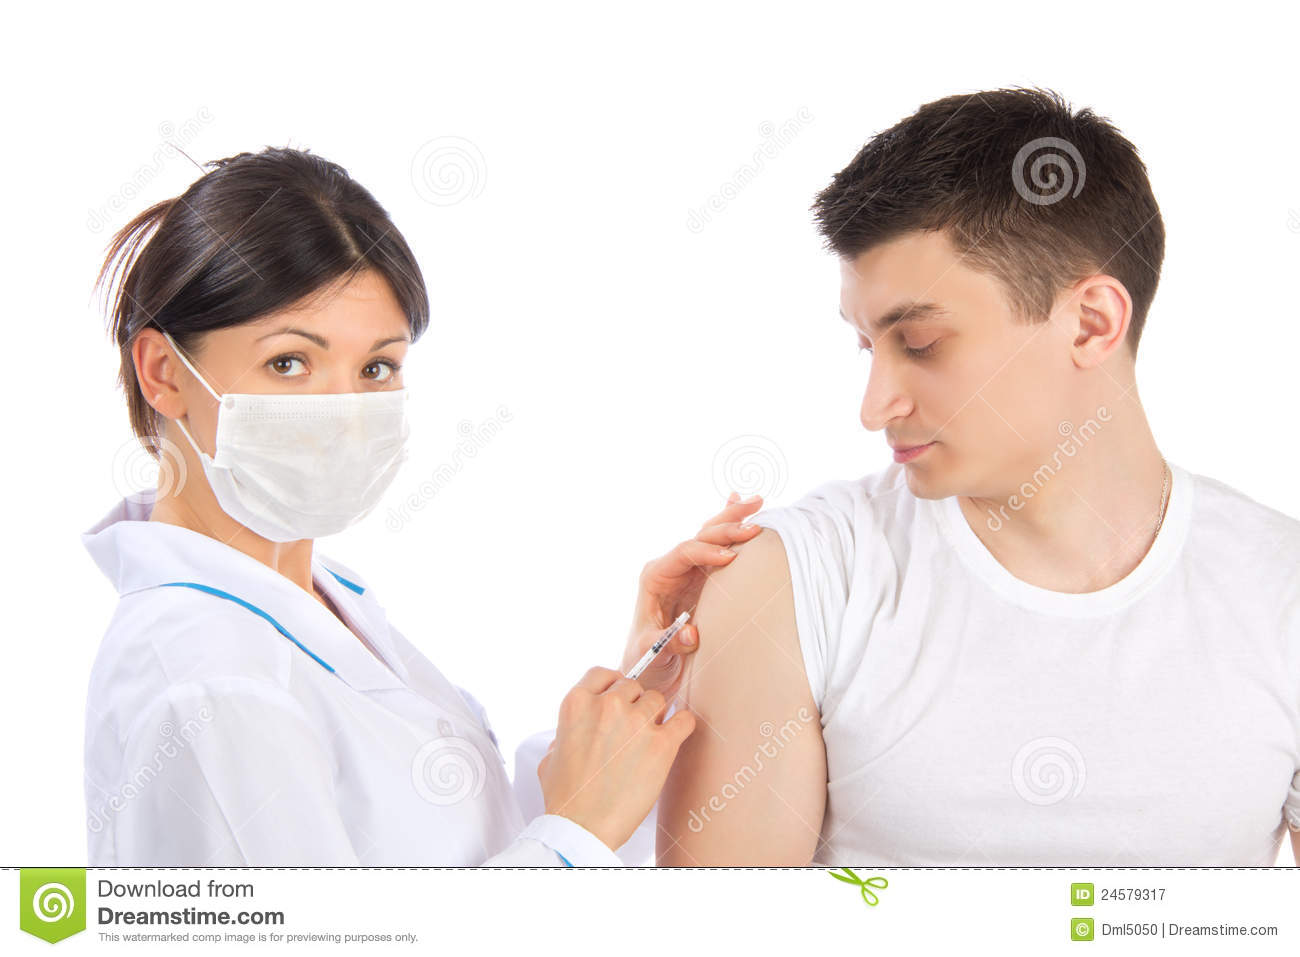mask: (206, 392, 438, 548)
